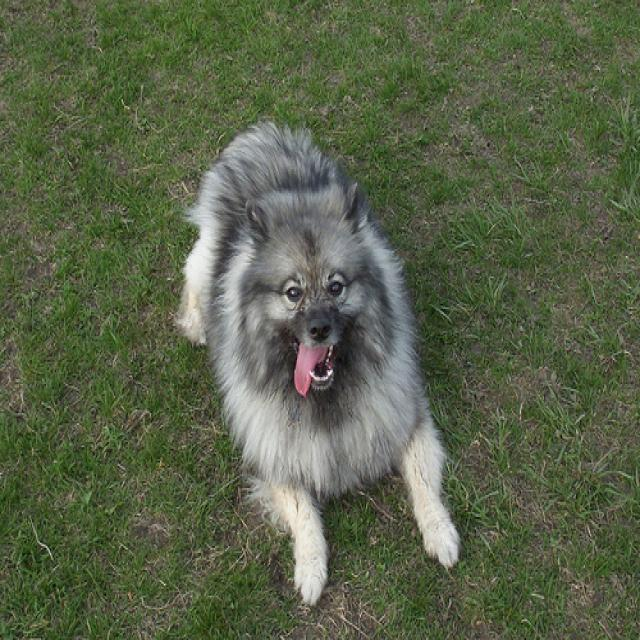dog-keeshond: (172, 116, 467, 618)
